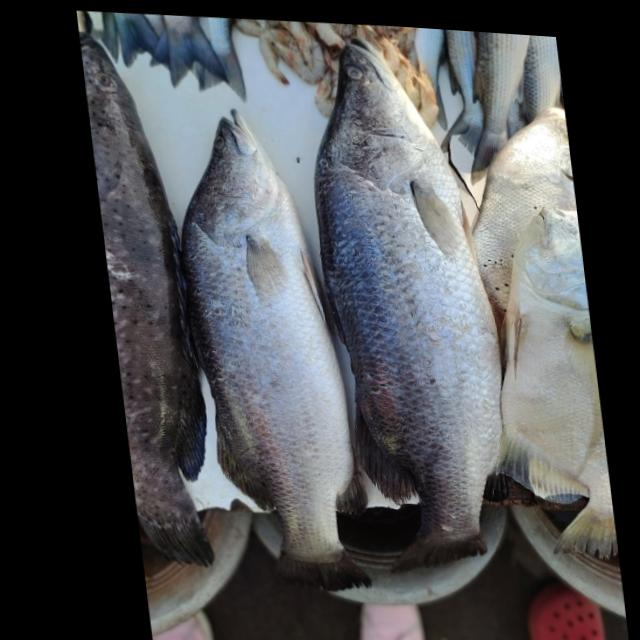Seabass: (293, 26, 528, 583), (154, 100, 375, 596)
